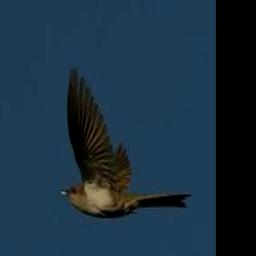Cuckoo: (60, 66, 192, 217)
